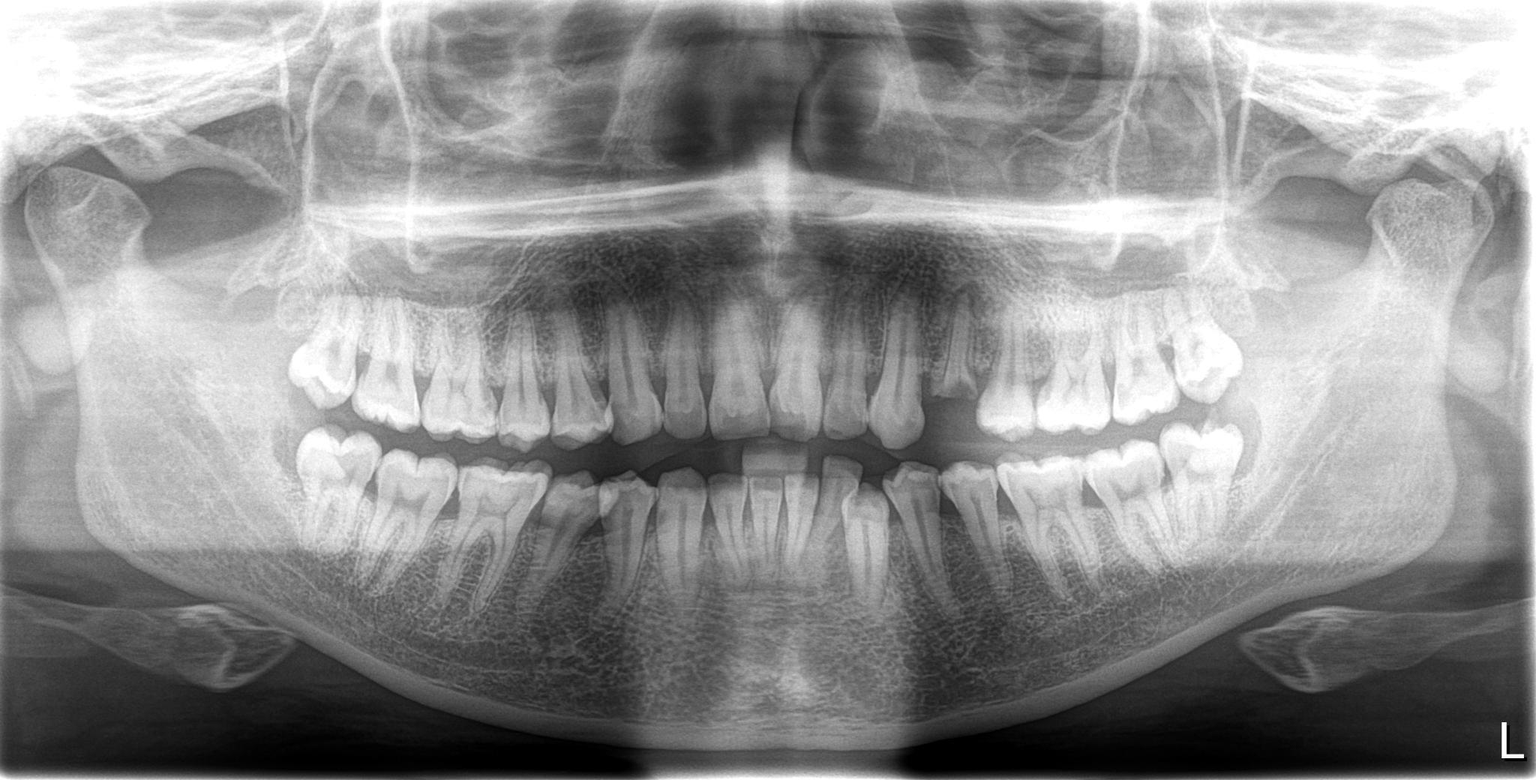Retained Root: (928, 291, 985, 421)
